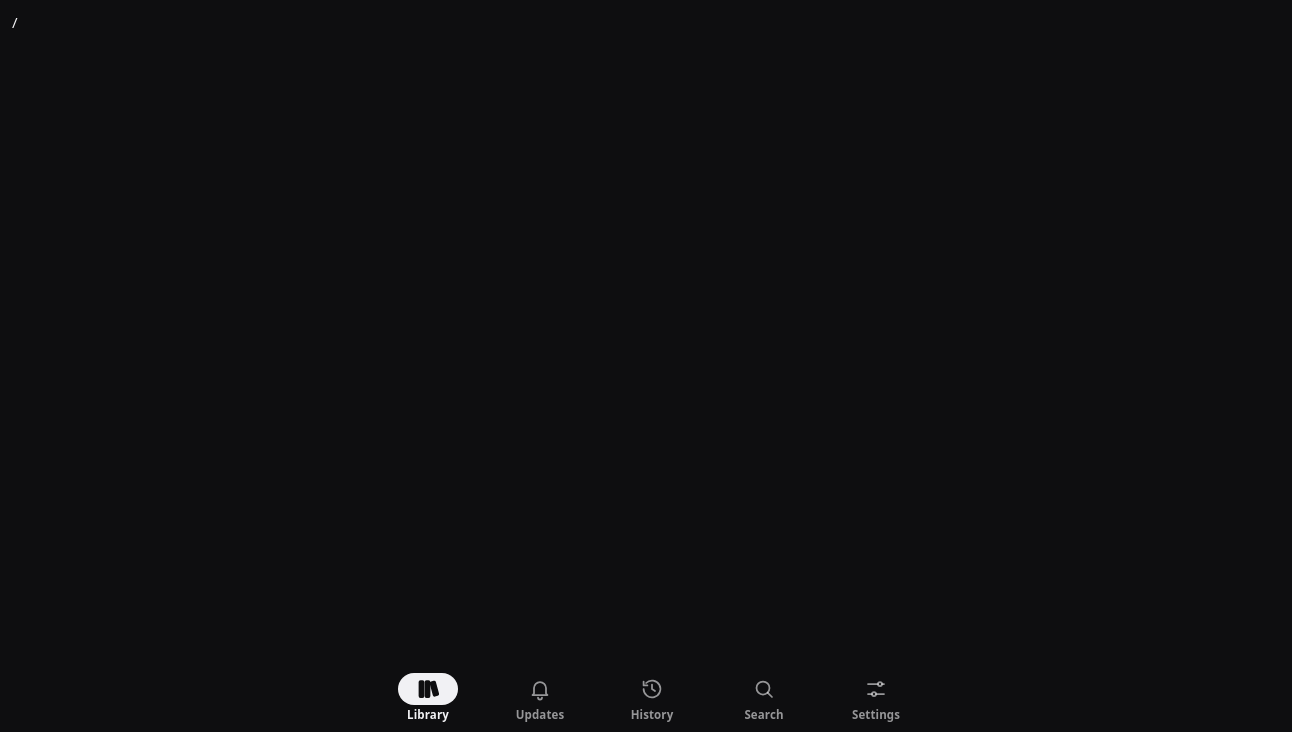
Test: navigates when a tab is tapped
Click the tab "Updates". click: (540, 699)
box: [516, 677, 564, 722]
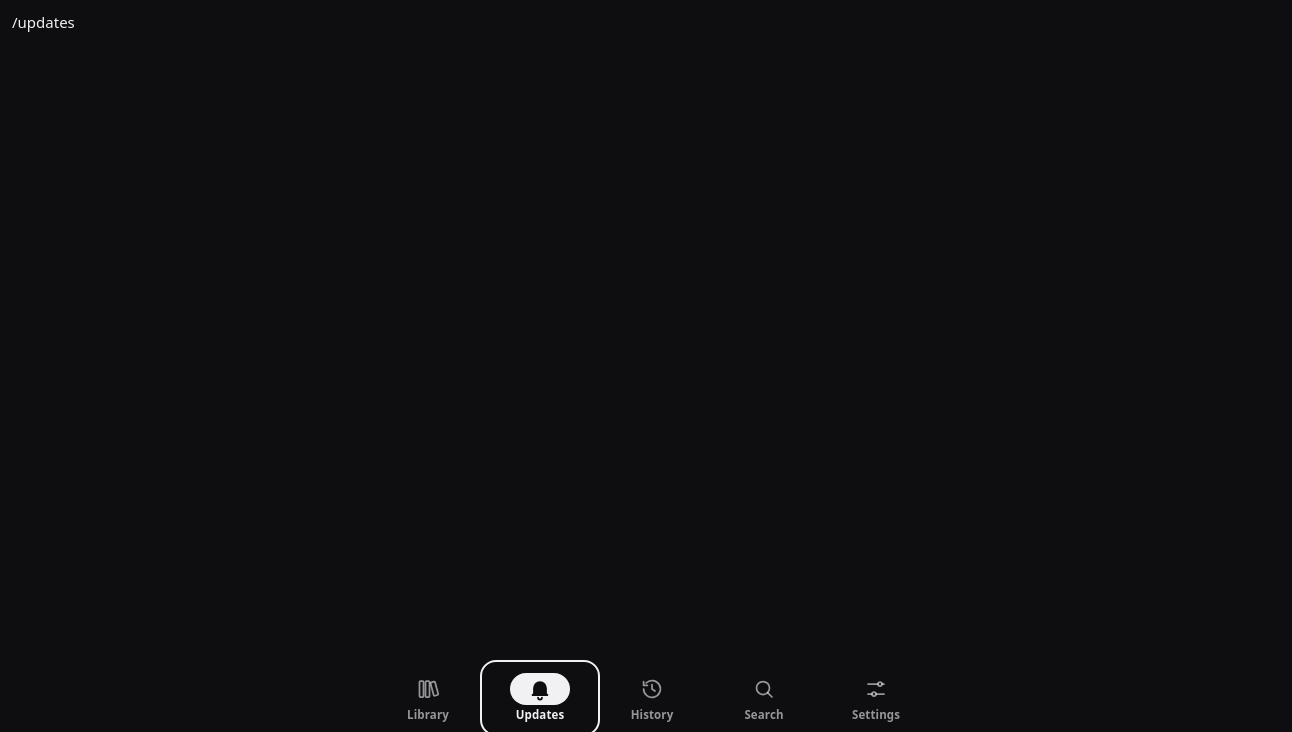
Check: the text with test id "location" reads "/updates", box [12, 12, 75, 32]
